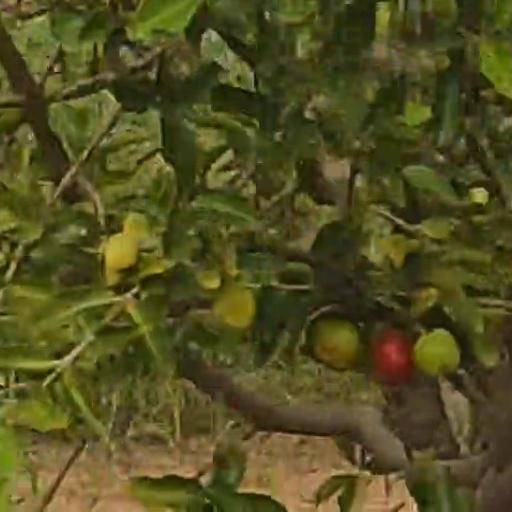acerola: (308, 316, 357, 368), (371, 331, 411, 381), (416, 332, 461, 376), (220, 292, 255, 328), (106, 234, 136, 265)
